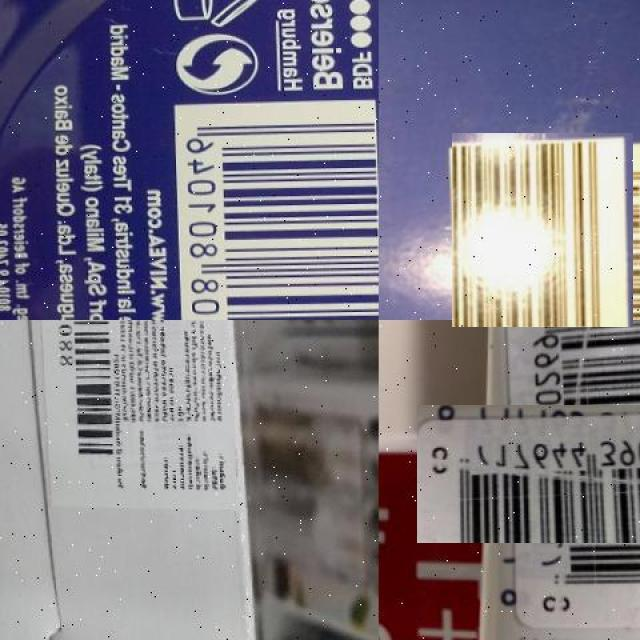Barcode: (176, 97, 379, 320), (459, 362, 640, 585), (449, 135, 636, 324), (49, 320, 120, 465)
